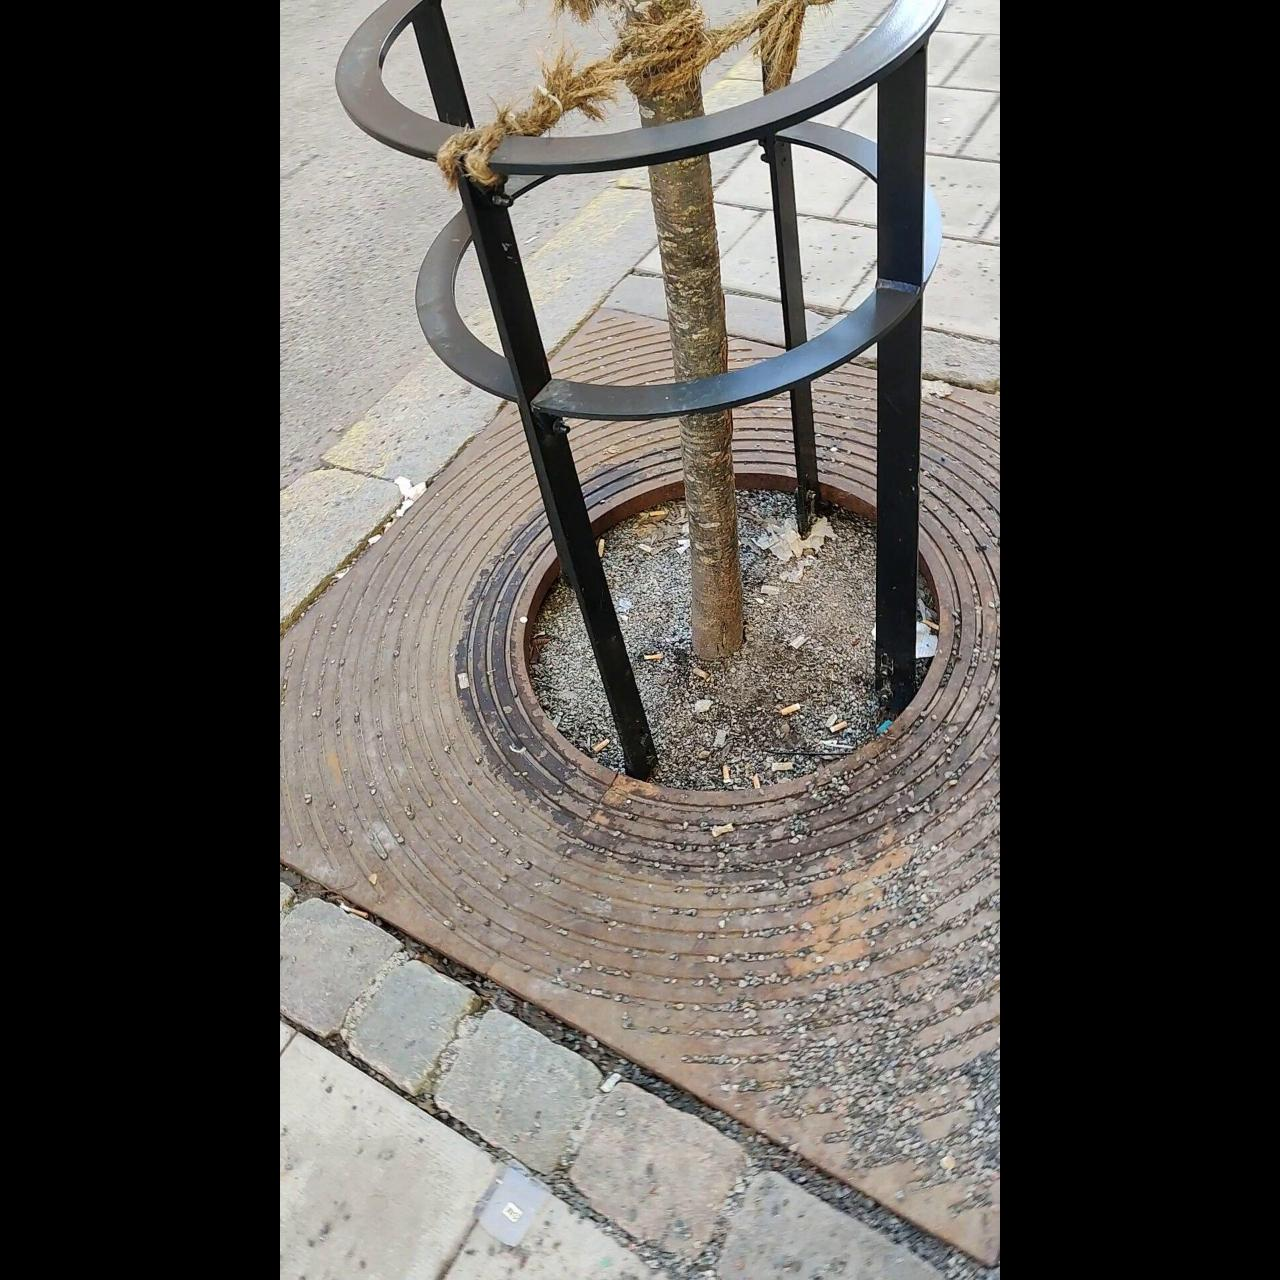cigarettes_butts: (600, 1071, 622, 1097), (334, 900, 372, 915), (709, 821, 737, 839), (919, 620, 939, 634), (781, 704, 799, 719), (597, 535, 607, 558), (642, 649, 663, 661), (720, 763, 731, 783), (829, 721, 845, 735), (594, 737, 608, 753), (644, 510, 668, 518), (751, 776, 763, 790)
others: (457, 670, 471, 690), (692, 669, 710, 679)
